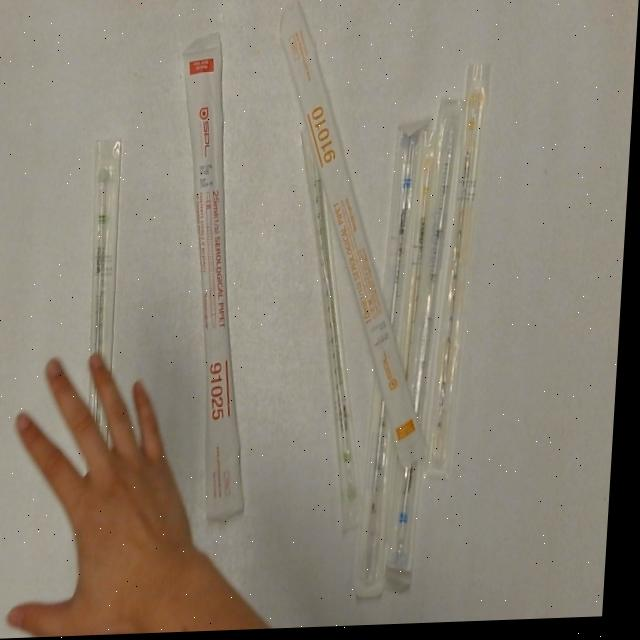Serelogical Pipet 1 mL: (429, 57, 497, 487), (400, 125, 452, 391)
Serelogical Pipet 10 mL: (257, 0, 455, 478)
Serelogical Pipet 2 mL: (284, 123, 388, 541), (83, 131, 128, 422)
Serelogical Pipet 25 mL: (160, 29, 277, 534)
Serelogical Pipet 5 mL: (356, 114, 436, 608), (392, 95, 470, 586)
